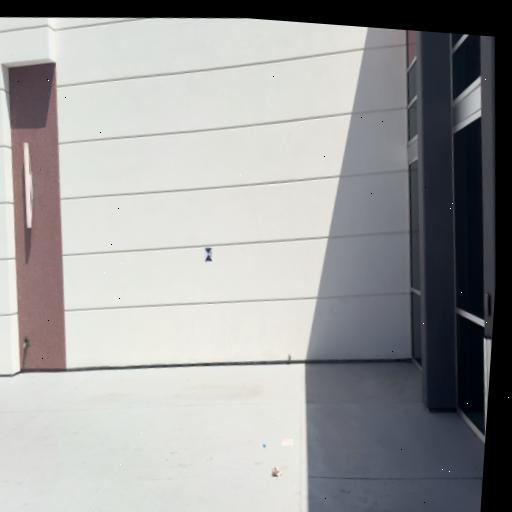target7: (204, 247, 213, 261)
